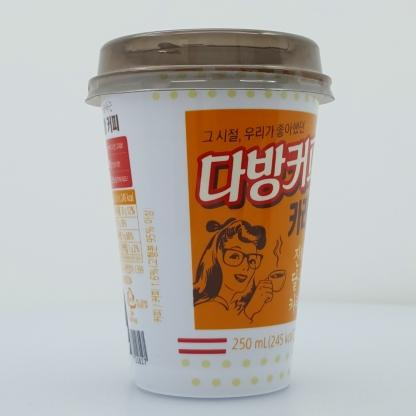---------: (84, 28, 335, 397)
